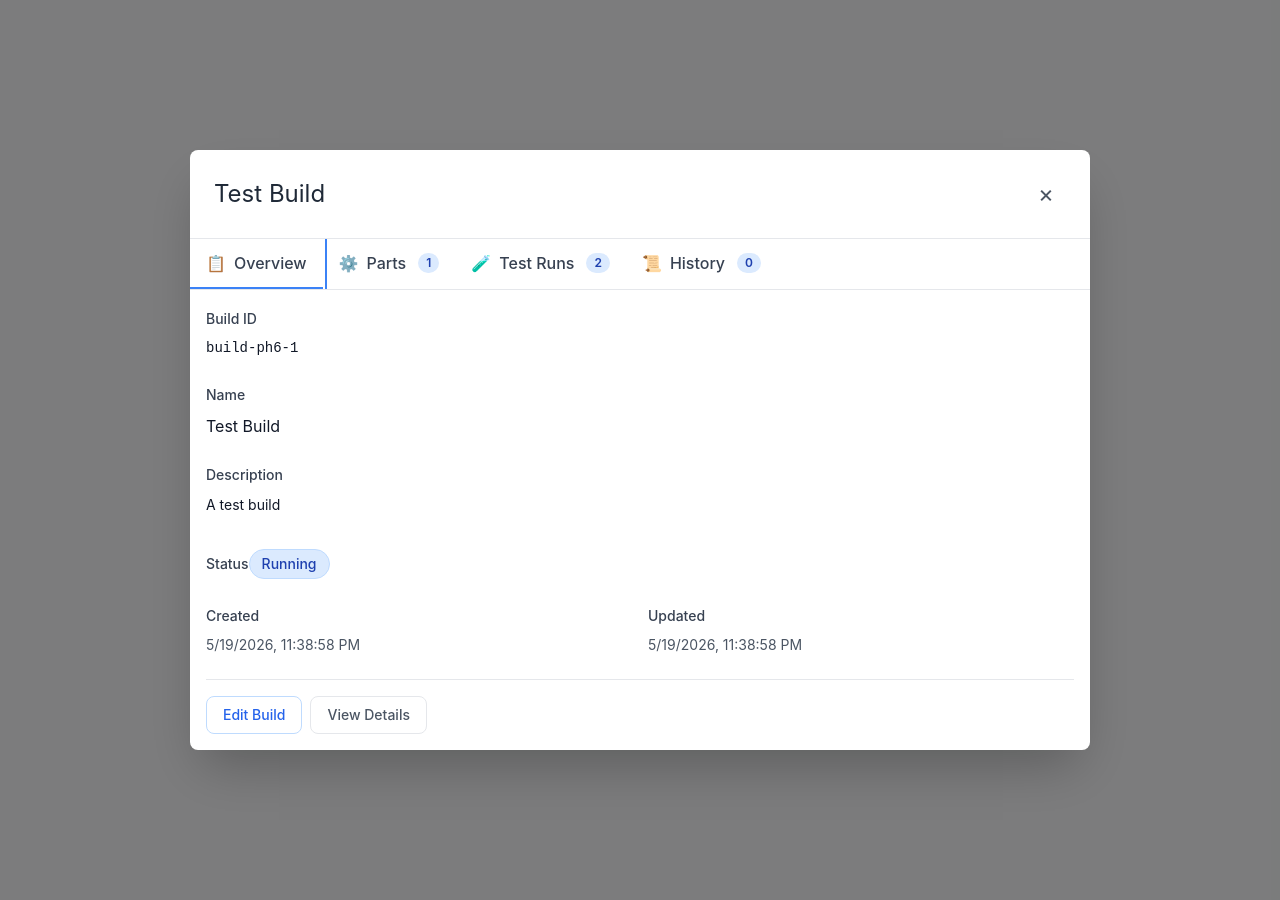
Test: BuildDetailModal - Phase 6: Event Handlers › 6.2: BuildTestRunsTab - Test Result Click Handler Wiring › should render View button for each test run
What coordinates should you click on to do the following:
click the tab "🧪 Test Runs 2"
I would click on:
 (541, 264)
Its box is [455,239,626,289].
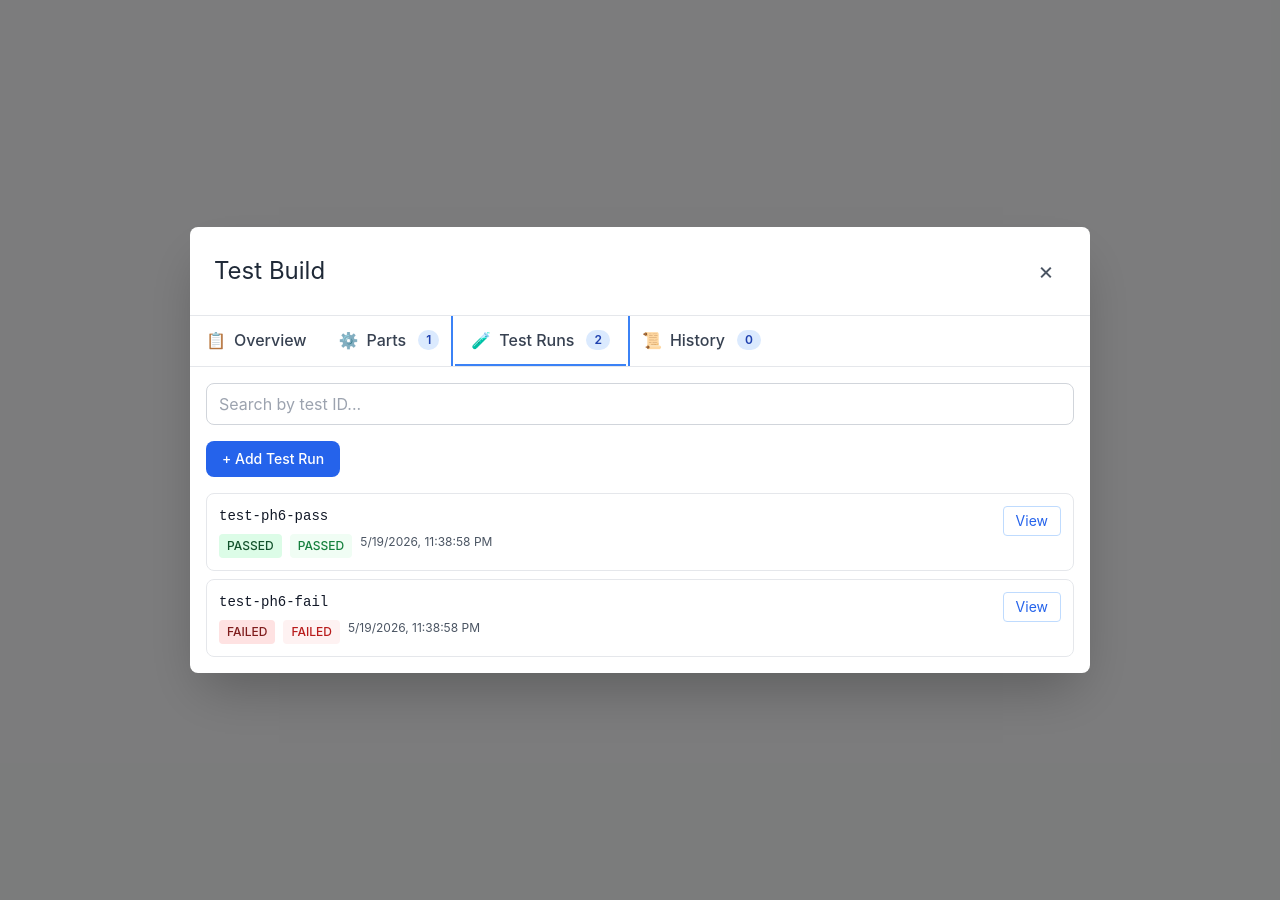
Check: the button "View" in the row of "test-ph6-pass" is shown, box [1003,506,1061,536]
